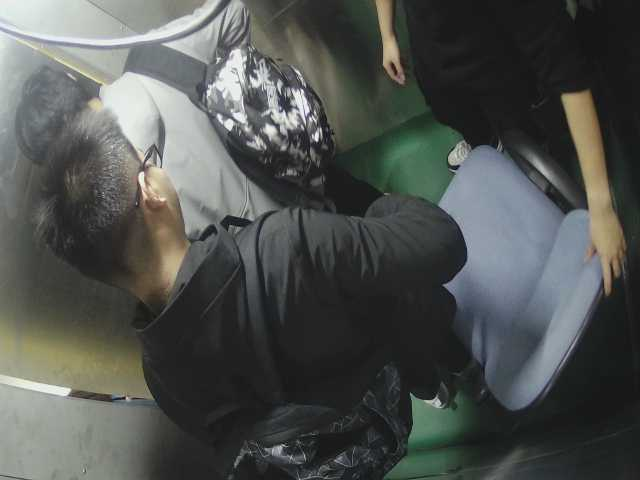bag: (205, 44, 350, 198)
chair: (398, 136, 619, 416)
person: (33, 105, 447, 439)
